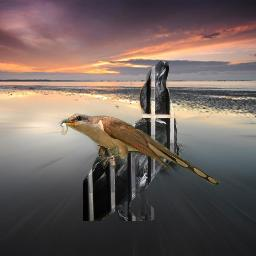Crow: (83, 61, 177, 221)
Cuckoo: (57, 113, 220, 185)
